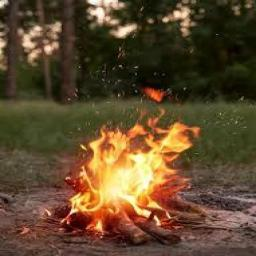Small fire: (75, 115, 203, 237)
